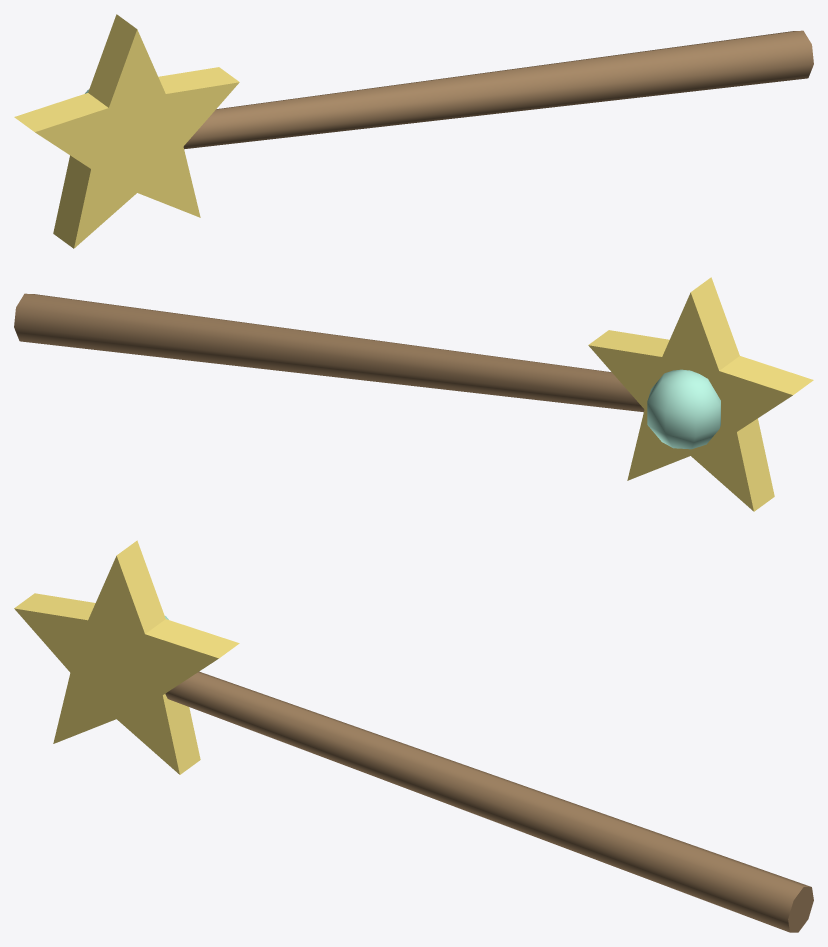
File: WandWind.fbx
The picture shows the model from 3 angles, top to bottom: view 1: azimuth 30°, elevation 25°; view 2: azimuth 150°, elevation 25°; view 3: azimuth 330°, elevation 25°; orthographic projection.
Parts seen in each view (by area): view 1: WandWind; view 2: WandWind; view 3: WandWind.
Boxes of the visible parts, x1,y1,x2,y2 form: WandWind: (14, 14, 813, 248); WandWind: (14, 277, 813, 511); WandWind: (14, 540, 813, 932).
Size of the model in its own units: 0.867 by 0.2348 by 0.093.
